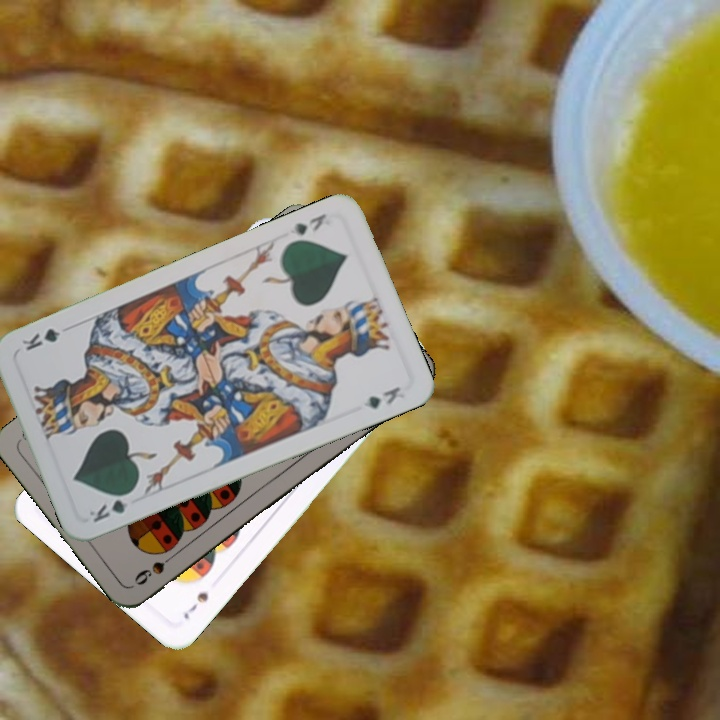GK: (85, 487, 137, 525), (286, 209, 329, 238)
S7: (179, 587, 211, 622)
S9: (130, 547, 181, 588)
